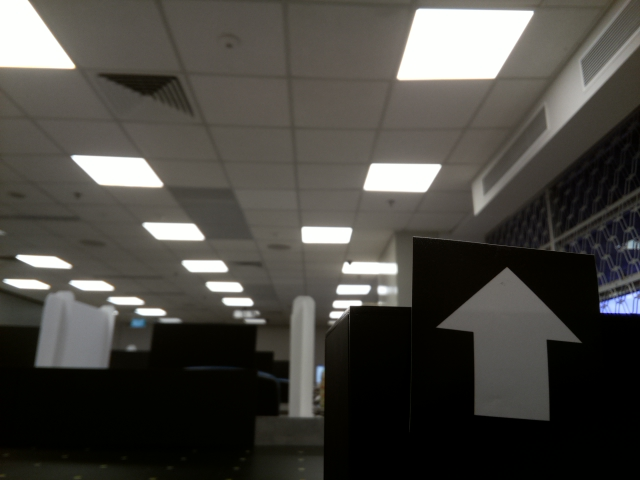up: (427, 254, 589, 433)
